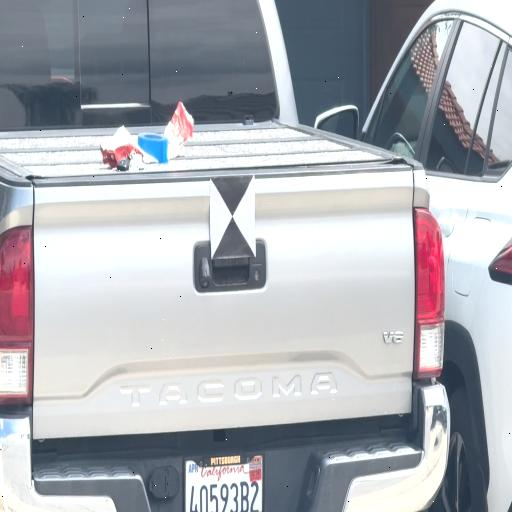target: (211, 178, 255, 256)
